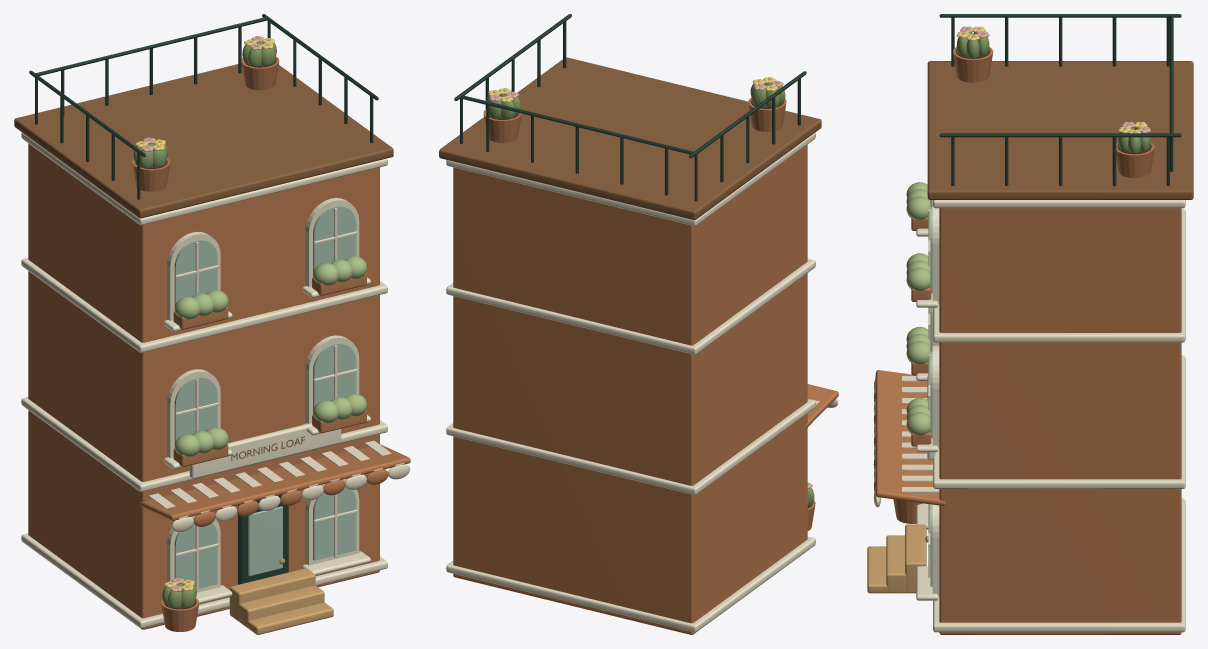
File: bakery.glb
3 views of the same model, side by side, from view 1: azimuth 30°, elevation 25°; view 2: azimuth 150°, elevation 25°; view 3: azimuth 270°, elevation 25° (orthographic). The views are drawn at different scales.
Parts seen in each view (by area): view 1: Plaster house.004, Roof.004, Canvas awning.004, Stone cornice.018, Sign frame.004, Stone cornice.019, Stone cornice.016, Stone cornice.017, Window glass.025, Window glass.024, Door pane.004, Window glass.026 (+24 smaller); view 2: Plaster house.004, Roof.004, Stone cornice.016, Stone cornice.017, Stone cornice.018, Stone cornice.019, Terrace railing.014, Terracotta pot.019, Terracotta pot.018, Canvas awning.004, Terrace railing.012, Terrace railing.013; view 3: Plaster house.004, Roof.004, Canvas awning.004, Stone cornice.016, Stone cornice.017, Stone cornice.018, Stone cornice.019, Shop entrance step.012, Terrace railing.013, Shop entrance step.013, Shop entrance step.014, Terrace railing.012 (+12 smaller).
Part boxes in pixels (<box>): Plaster house.004: <box>28,143,379,629</box>; Roof.004: <box>14,64,393,218</box>; Canvas awning.004: <box>139,444,410,520</box>; Stone cornice.018: <box>21,258,387,352</box>; Sign frame.004: <box>189,423,341,478</box>; Stone cornice.019: <box>21,132,387,225</box>; Stone cornice.016: <box>21,533,387,628</box>; Stone cornice.017: <box>21,397,387,491</box>; Window glass.025: <box>313,486,356,560</box>; Window glass.024: <box>174,519,217,588</box>; Door pane.004: <box>248,506,282,576</box>; Window glass.026: <box>174,377,217,443</box>; Plaster house.004: <box>453,144,807,634</box>; Roof.004: <box>439,57,821,219</box>; Stone cornice.016: <box>446,536,815,632</box>; Stone cornice.017: <box>446,399,815,494</box>; Stone cornice.018: <box>446,259,815,354</box>; Stone cornice.019: <box>446,132,815,225</box>; Terrace railing.014: <box>460,95,693,154</box>; Terracotta pot.019: <box>483,109,521,142</box>; Terracotta pot.018: <box>748,97,786,131</box>; Canvas awning.004: <box>805,384,838,428</box>; Terrace railing.012: <box>689,71,806,158</box>; Terrace railing.013: <box>454,14,571,100</box>; Plaster house.004: <box>939,208,1181,634</box>; Roof.004: <box>927,61,1193,199</box>; Canvas awning.004: <box>875,370,945,505</box>; Stone cornice.016: <box>933,498,1185,632</box>; Stone cornice.017: <box>933,355,1185,488</box>; Stone cornice.018: <box>933,209,1185,342</box>; Stone cornice.019: <box>933,200,1185,208</box>; Shop entrance step.012: <box>905,524,926,593</box>; Terrace railing.013: <box>939,133,1181,137</box>; Shop entrance step.013: <box>886,535,906,593</box>; Shop entrance step.014: <box>867,546,887,593</box>; Terrace railing.012: <box>939,14,1181,17</box>.
Size of the model in its own units: 4.6 by 8.21 by 4.85.
